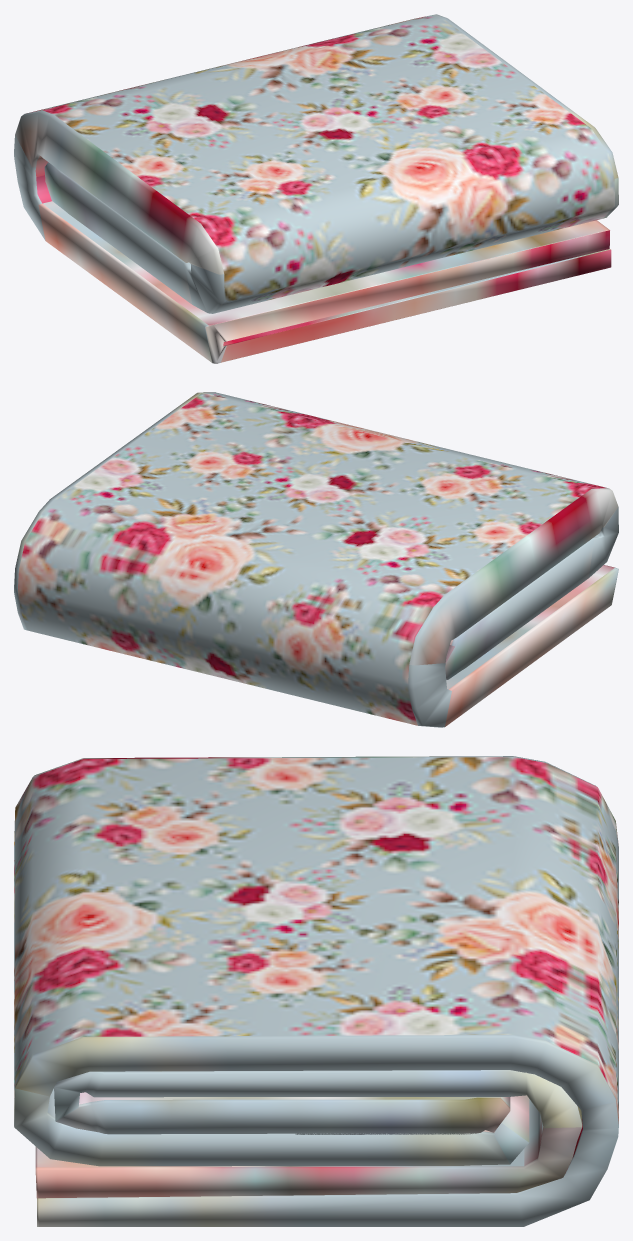
File: 11. N_lyster_platform_1.fbx
3 renders of one model, top to bottom at view 1: azimuth 30°, elevation 25°; view 2: azimuth 150°, elevation 25°; view 3: azimuth 270°, elevation 25°, orthographic. The views are drawn at different scales.
Visible parts, largest first — view 1: 11. N_lyster_platform_1; view 2: 11. N_lyster_platform_1; view 3: 11. N_lyster_platform_1.
Boxes of the visible parts, x1,y1,x2,y2 form: 11. N_lyster_platform_1: (14, 14, 618, 363); 11. N_lyster_platform_1: (14, 392, 618, 727); 11. N_lyster_platform_1: (14, 756, 618, 1226).
Bounding box in the file's own units: 0.3238 × 0.0987 × 0.2857.
